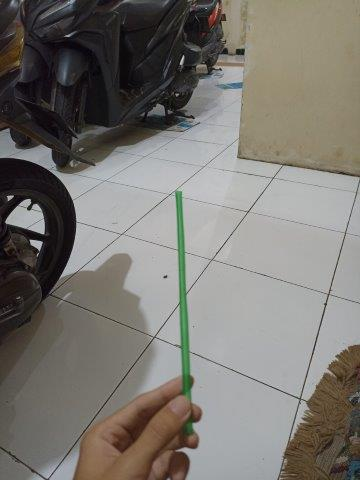sedotan: (175, 191, 193, 433)
